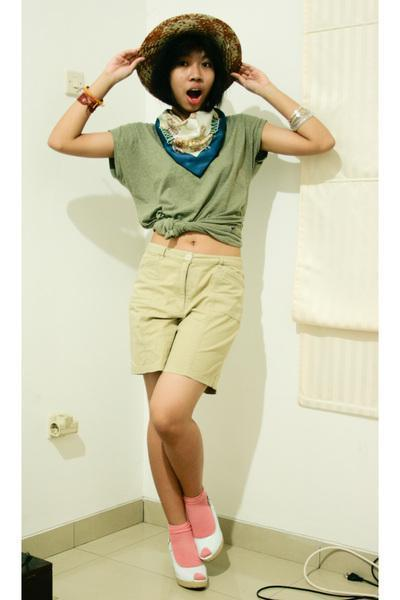hat: (118, 14, 240, 83)
shirt: (102, 109, 275, 247)
shoe: (174, 523, 222, 590)
shorts: (125, 242, 243, 393)
